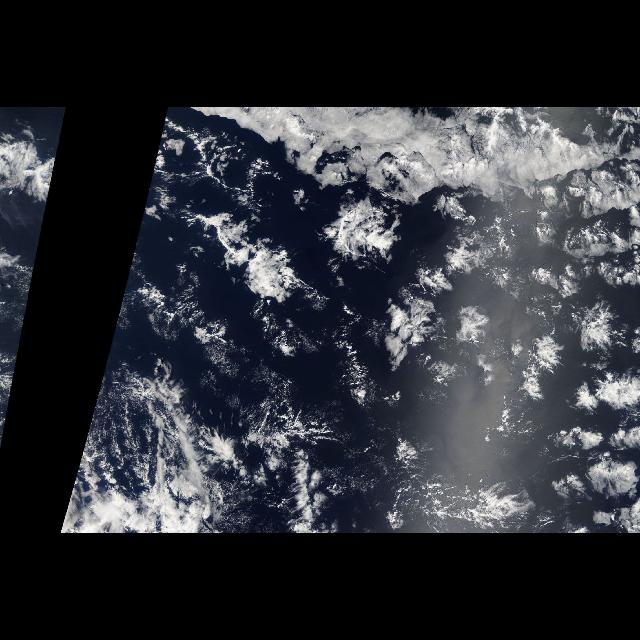Flower: (210, 107, 640, 533)
